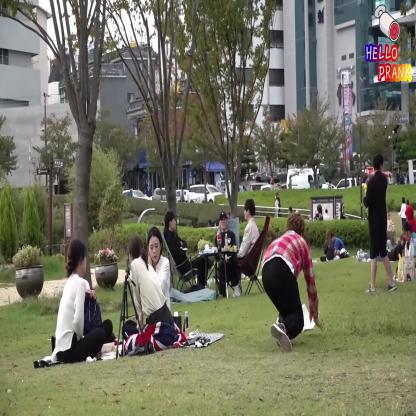Fall_Down: (258, 208, 324, 358)
